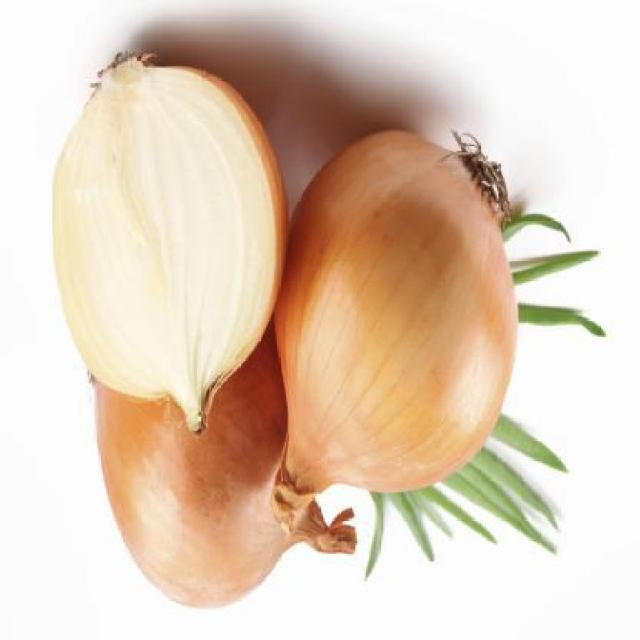onion: (47, 14, 282, 446), (282, 132, 521, 520), (89, 342, 360, 606)
